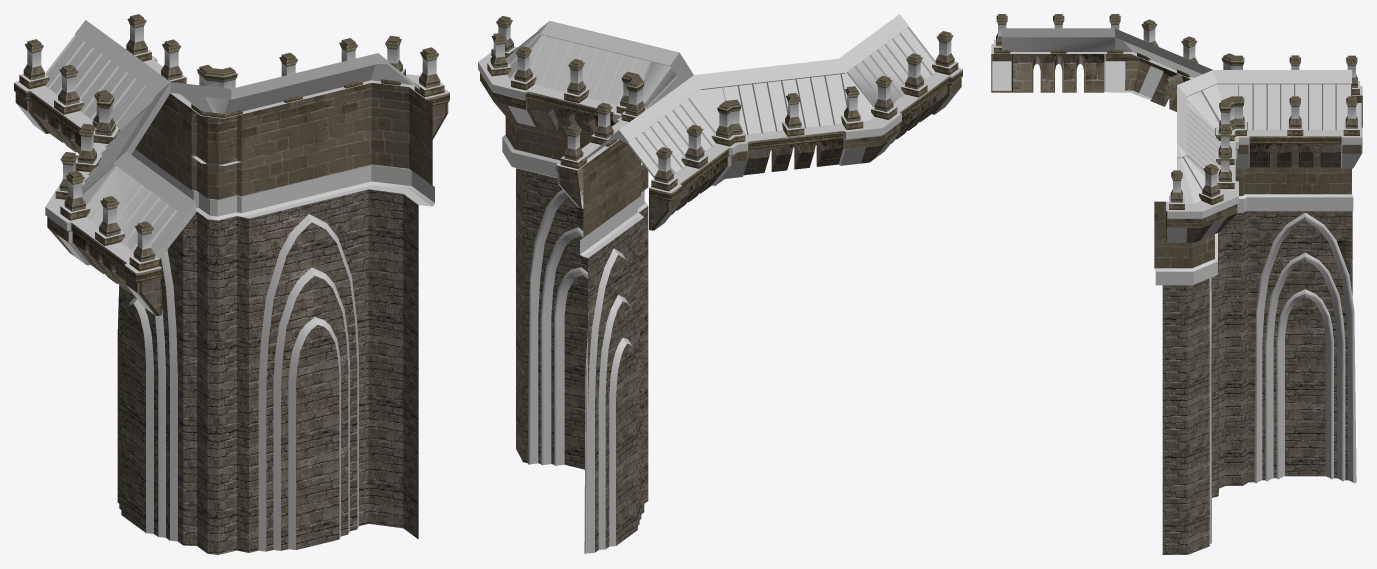
File: SM_TowerGateHouse_03.FBX
3 views of the same model, side by side, from view 1: azimuth 30°, elevation 25°; view 2: azimuth 150°, elevation 25°; view 3: azimuth 270°, elevation 25° (orthographic). The views are drawn at different scales.
Visible parts, largest first — view 1: SM_TowerGateHouse_03; view 2: SM_TowerGateHouse_03; view 3: SM_TowerGateHouse_03.
Part boxes in pixels (left/top/right/bottom): SM_TowerGateHouse_03: left=14, top=14, right=449, bottom=554; SM_TowerGateHouse_03: left=478, top=14, right=962, bottom=554; SM_TowerGateHouse_03: left=991, top=14, right=1362, bottom=554.
Size of what is drawn, in the model's own units: 2696 by 2524 by 2988.
